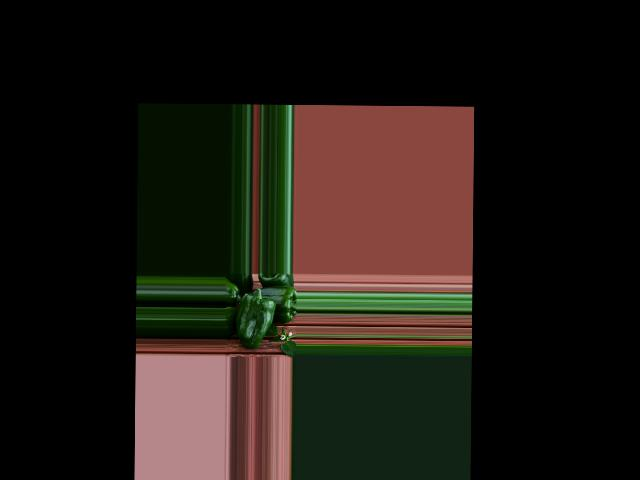bell_pepper: (224, 276, 242, 302)
